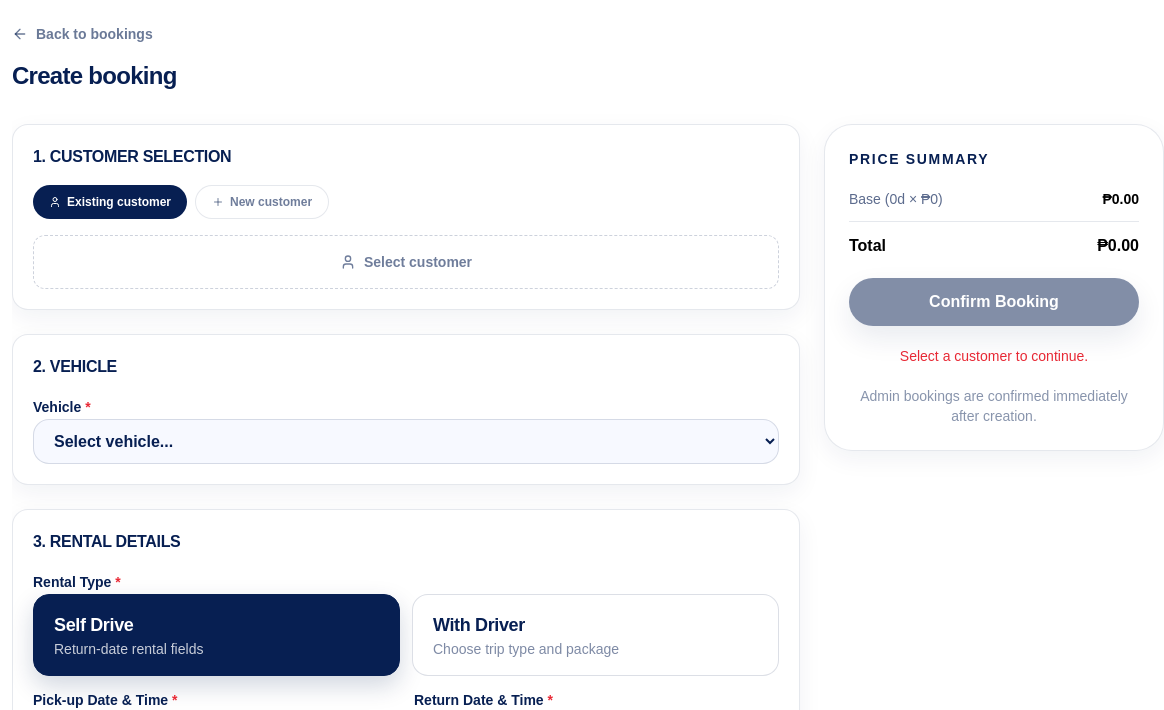
Test: AdminBookingsCreate › switches to new customer mode with invite checked by default
The width and height of the screenshot is (1164, 710).
Click the button "New customer" at (262, 202), box [195,185,329,219]
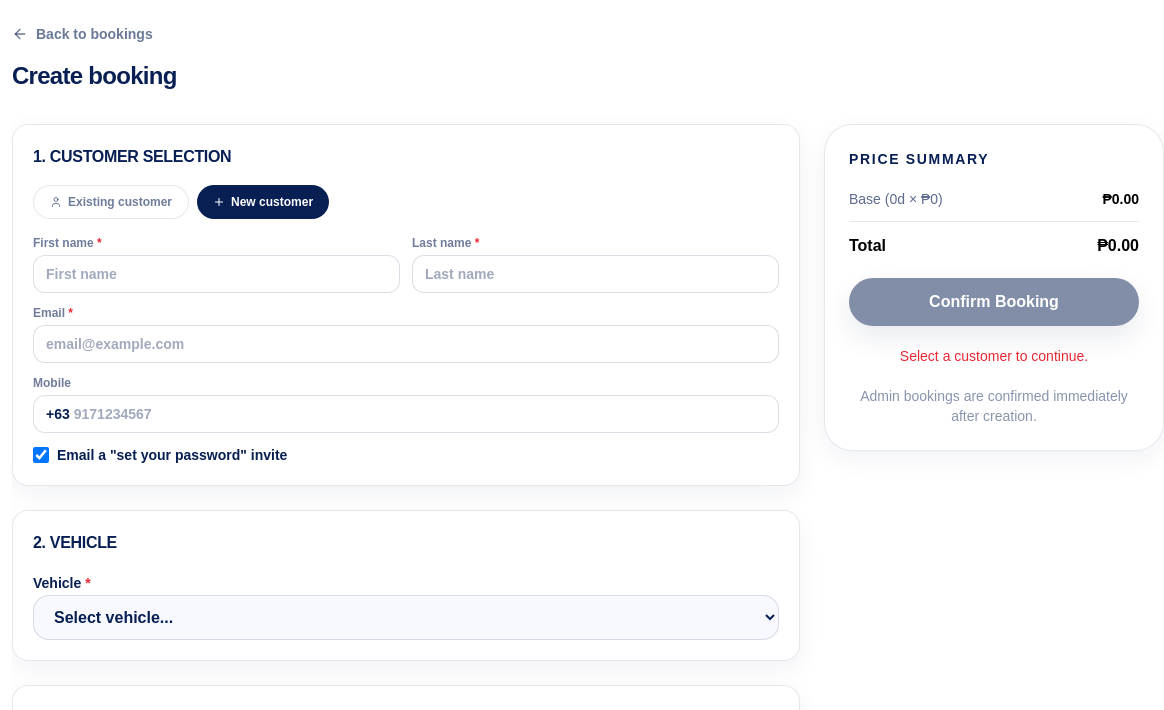
Result: the checkbox labelled "Email a \"set your password\" invite" is checked at [33,447,49,463]
Result: the field with placeholder "First name" is shown at [33,255,400,293]
